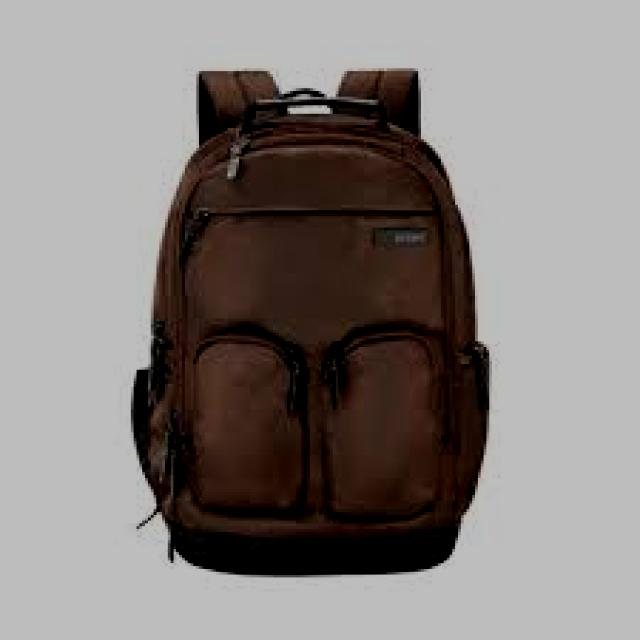backpack: (129, 67, 490, 576)
